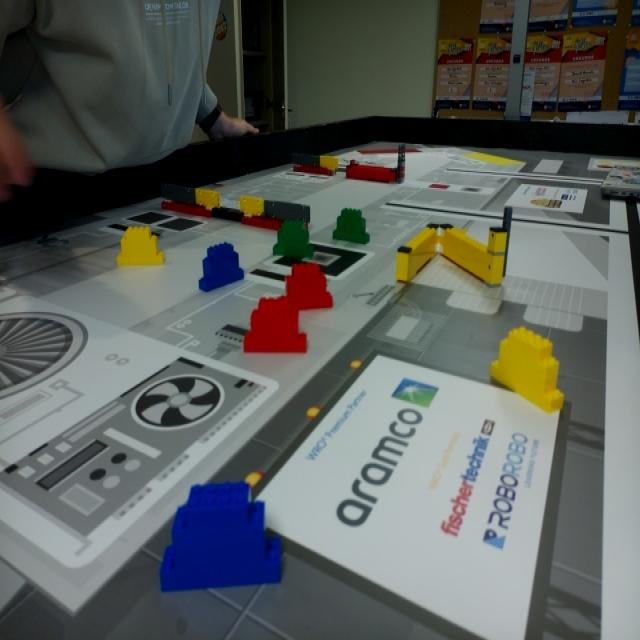blau: (158, 485, 280, 591), (201, 245, 245, 291)
gruen: (274, 220, 316, 258), (335, 208, 370, 244)
rot: (246, 300, 306, 354), (280, 264, 334, 311)
yellow: (490, 324, 562, 414), (118, 228, 164, 268)
